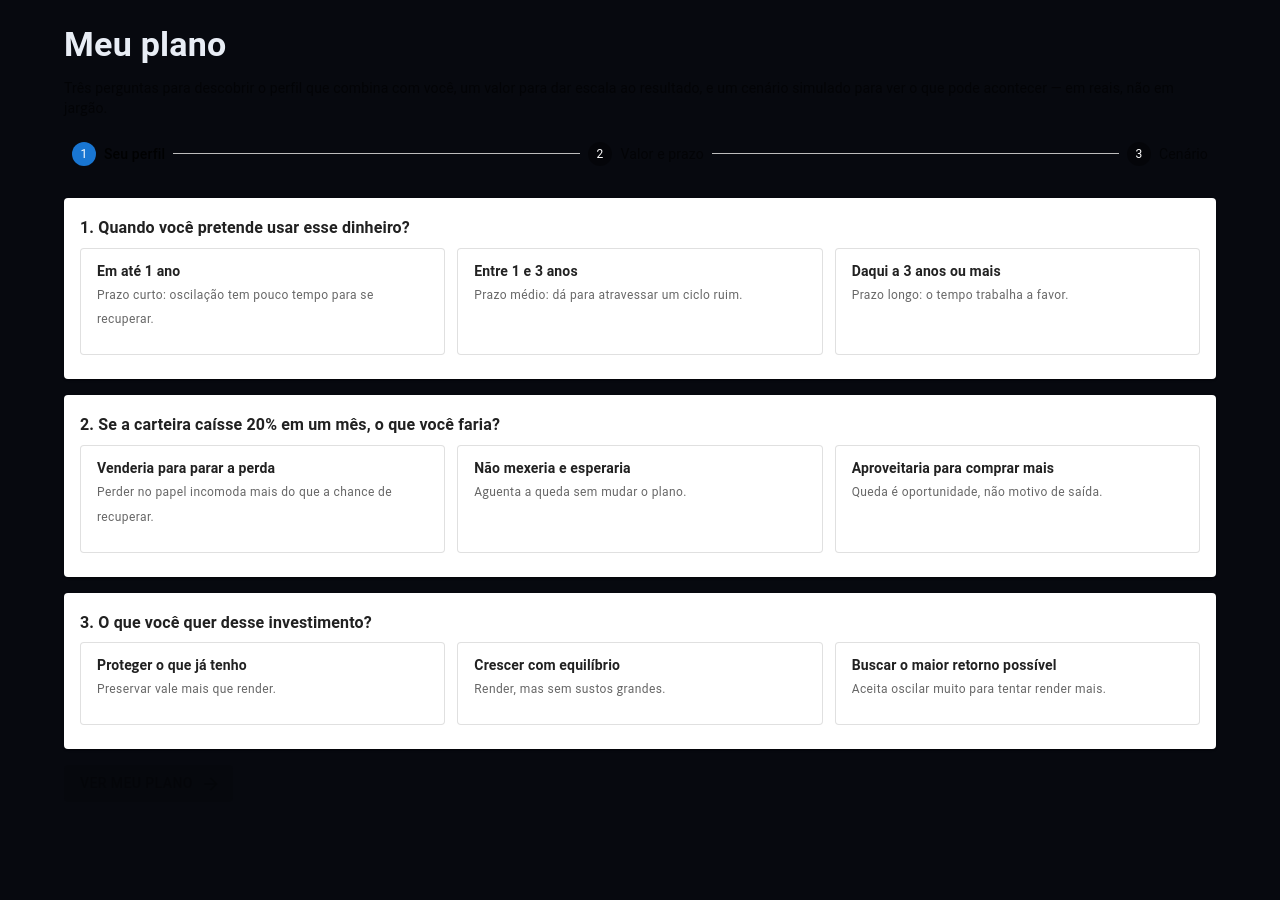
Scenario: ClientExperiencePage › suggests the conservative profile for a short horizon and loss aversion
Click the text "Em até 1 ano".
click(139, 270)  # box [97,260,180,280]
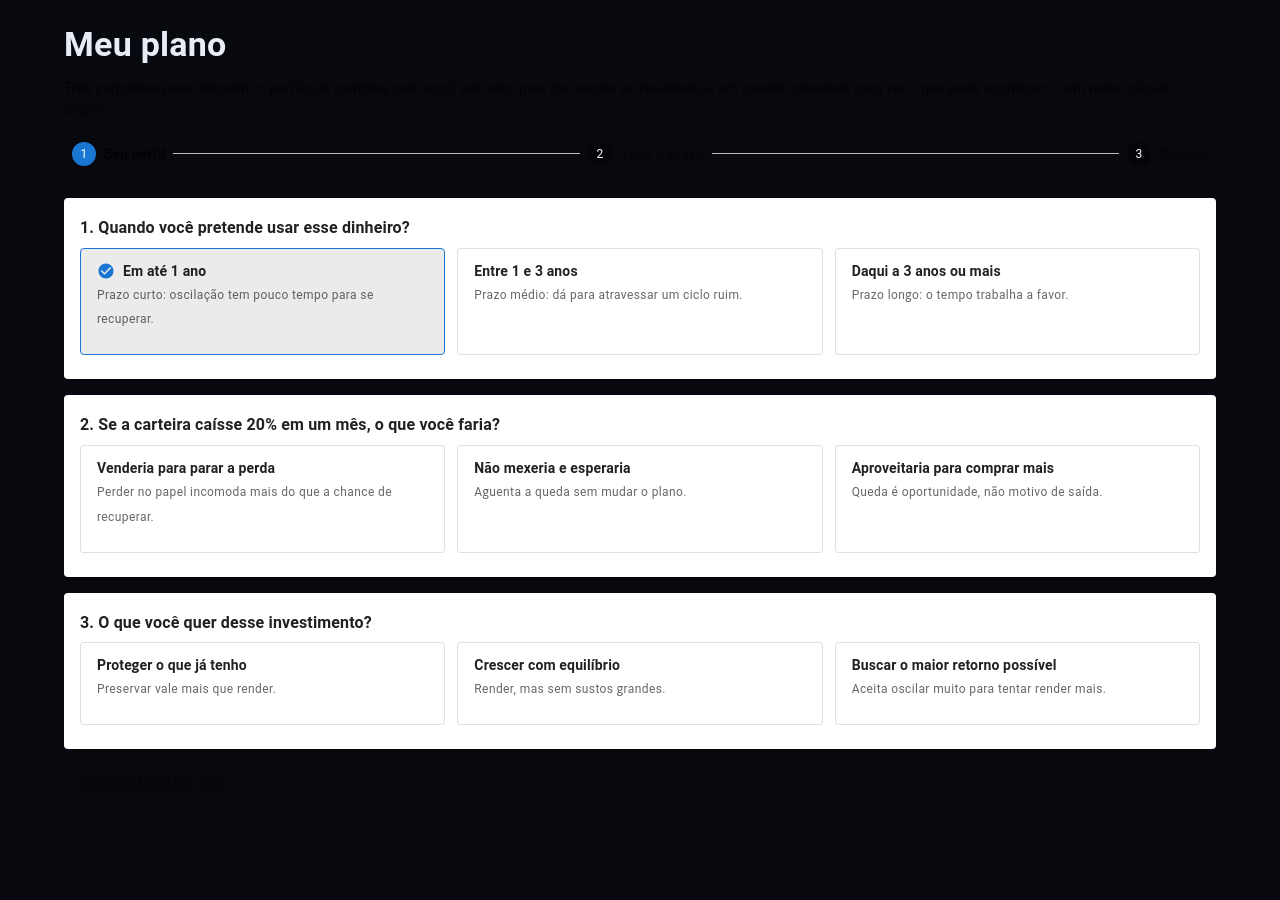
Click the text "Venderia para parar a perda".
click(186, 468)  # box [97,458,275,478]
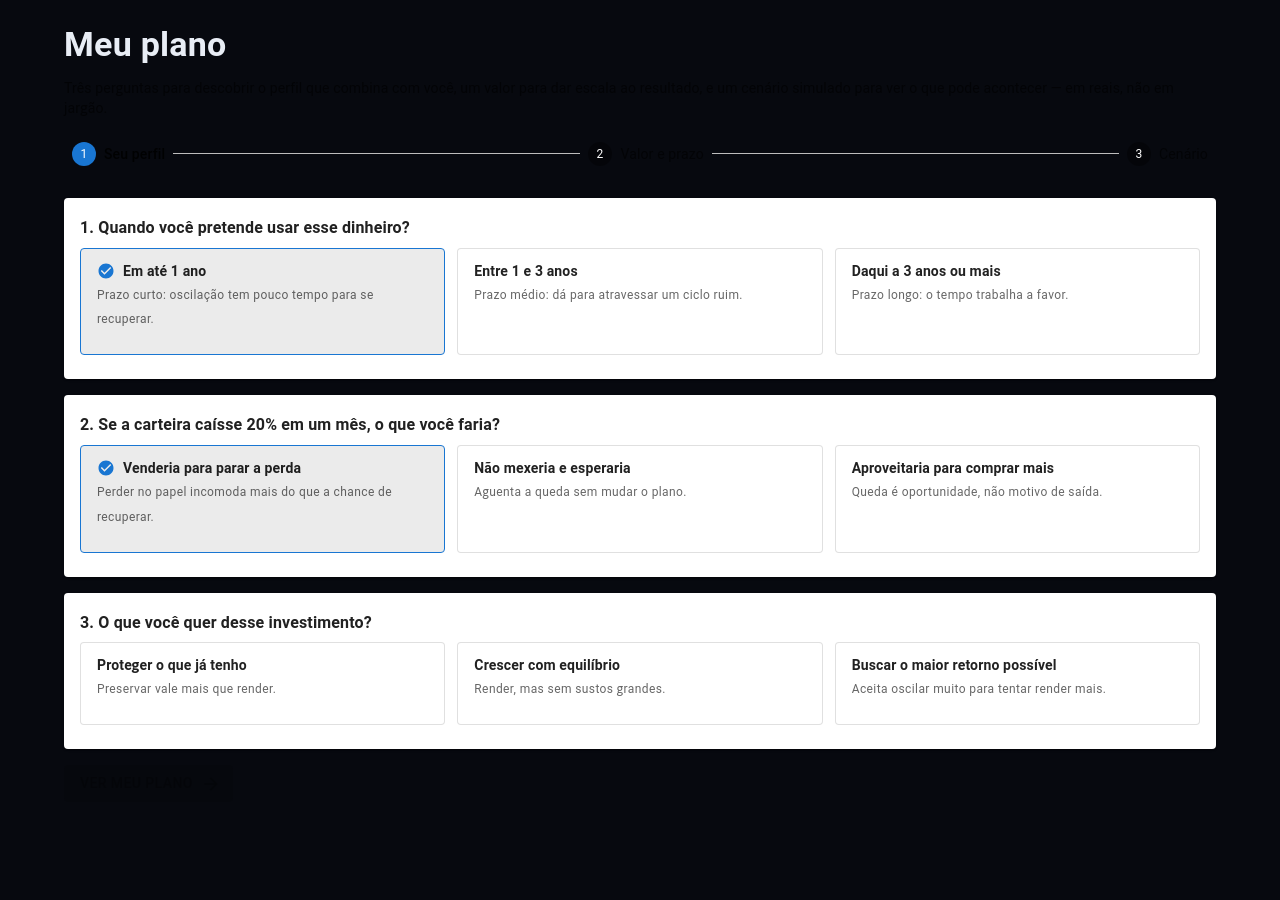
Click the text "Proteger o que já tenho".
click(172, 665)  # box [97,655,247,675]
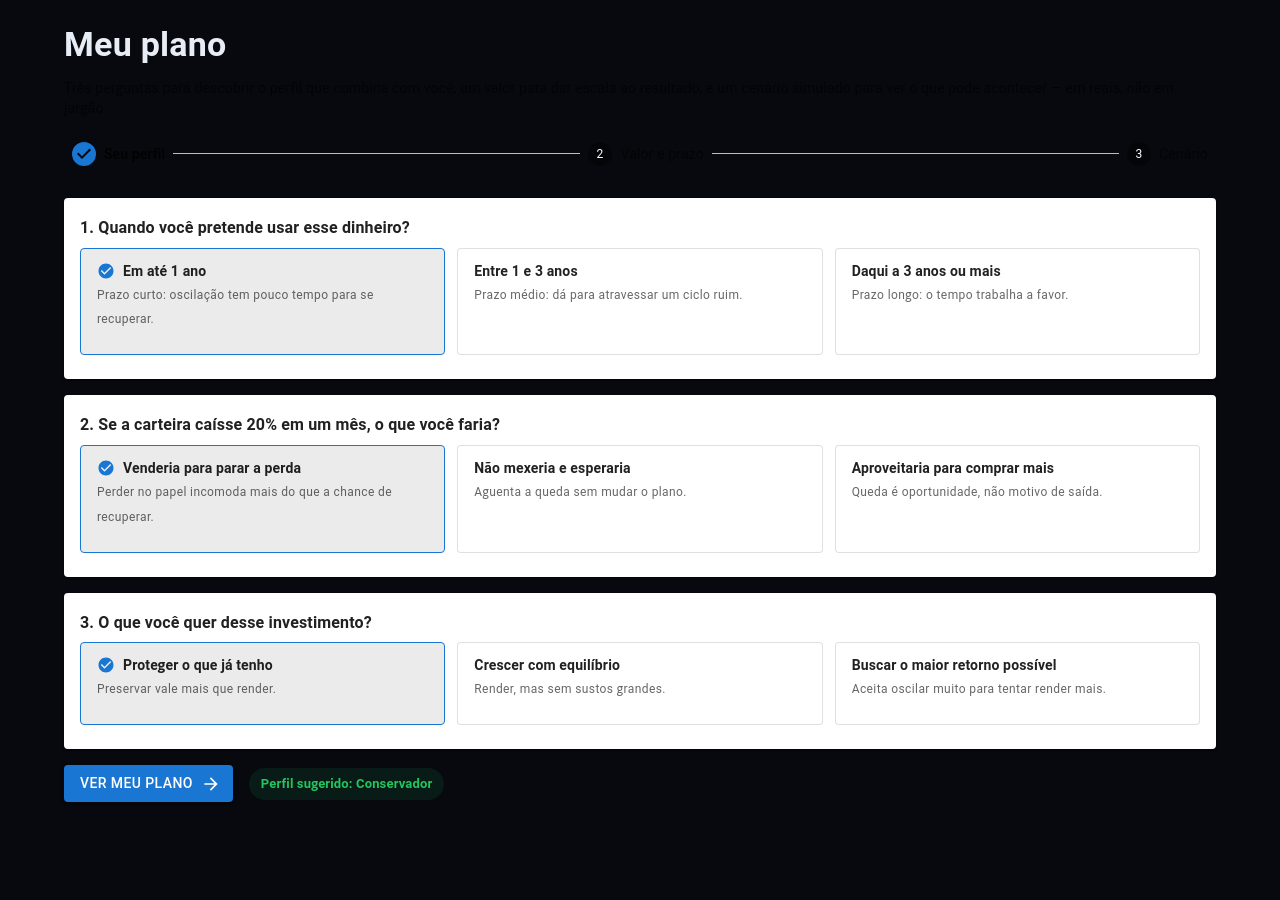
Now the text "Perfil sugerido: Conservador" is shown, box [249,774,444,793]
Click the button "Ver meu plano".
click(148, 784)  # box [64,765,233,802]
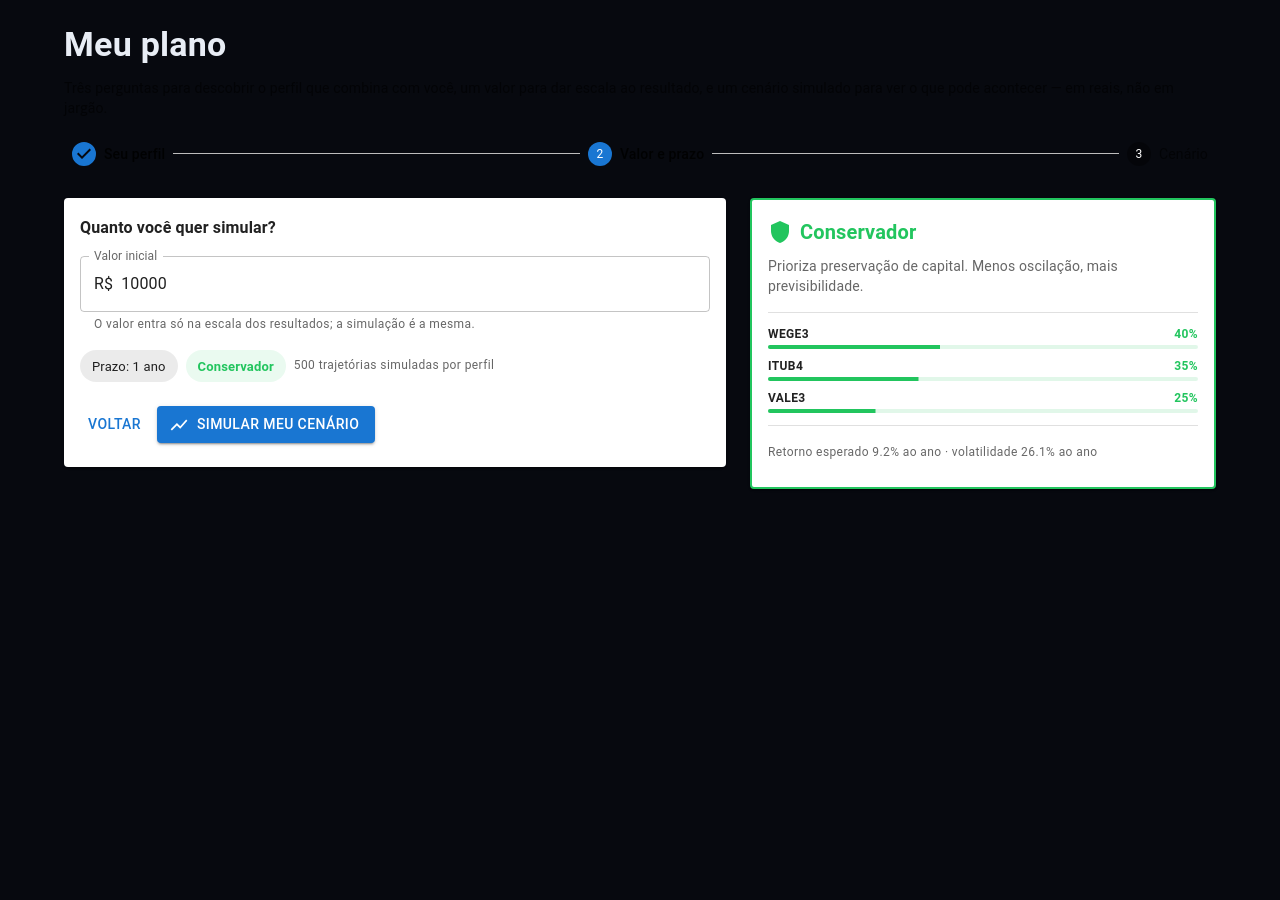
Now the heading "Quanto você quer simular?" is shown, box [80,218,276,237]
Now the text "Conservador" is shown, box [198,359,274,374]
